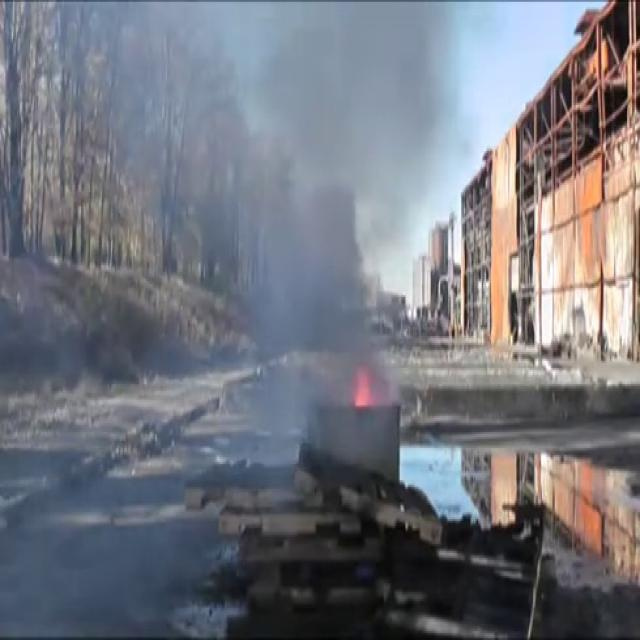Smoke: (149, 1, 434, 460)
